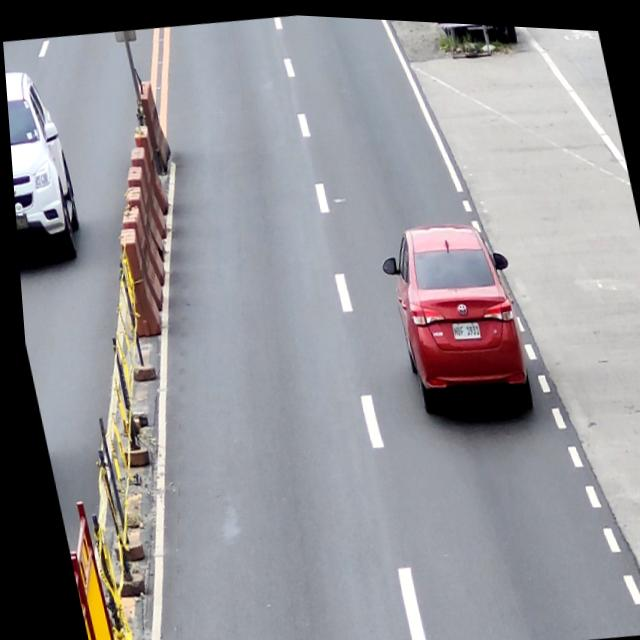Car: (369, 208, 534, 419)
License-Plate: (446, 314, 477, 338)
